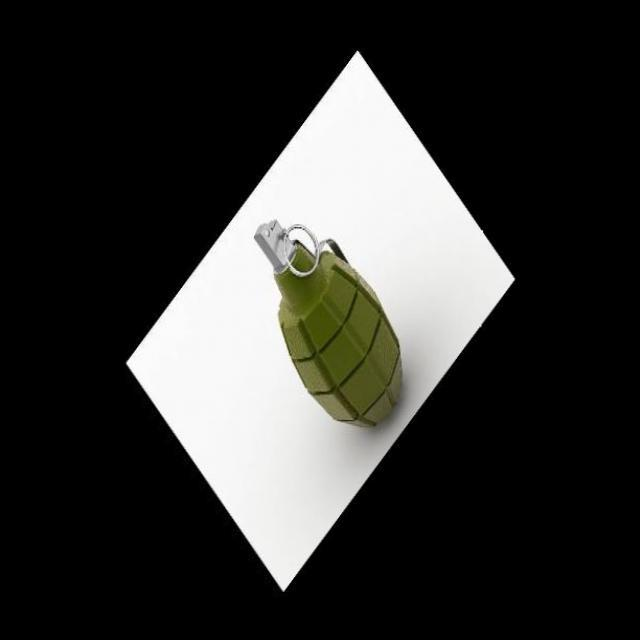grenade: (249, 220, 410, 436)
